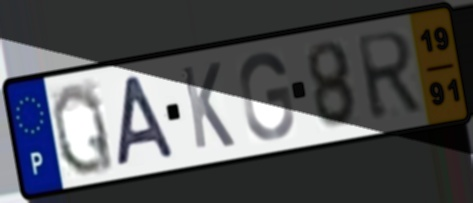8: (303, 39, 359, 131)
A: (114, 71, 180, 171)
G: (236, 49, 297, 143)
K: (178, 59, 238, 153)
Q: (49, 79, 118, 178)
R: (352, 27, 426, 125)
